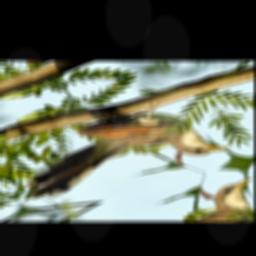Cuckoo: (0, 94, 231, 204)
